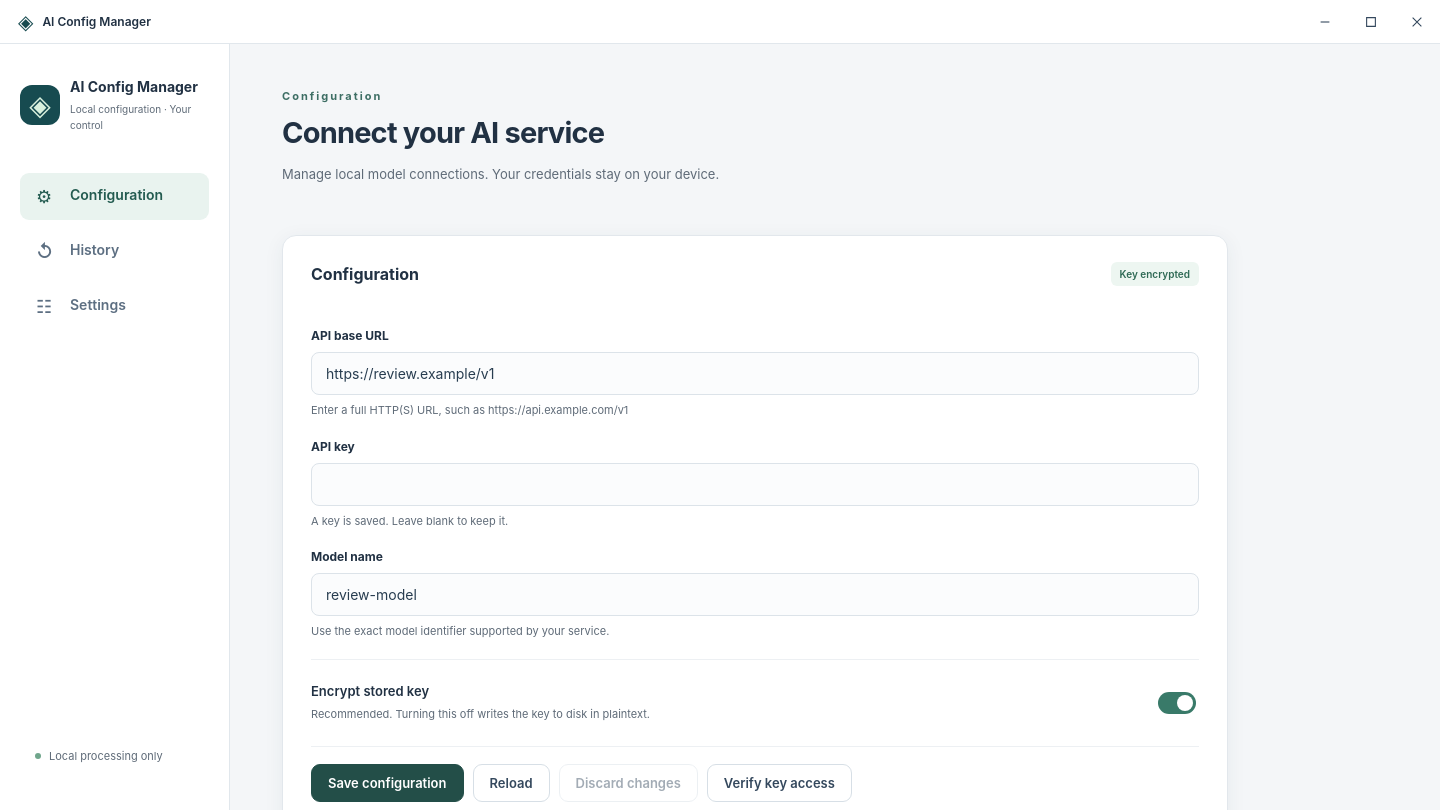
Settings page inventory › renders the English shell and settings copy from the saved language
Expected: the field showing "https://review.example/v1" is shown, [311,352,1199,395]
Click the button "☷ Settings". click: x=114, y=306
box: [20,283,209,330]
(page scrolled)
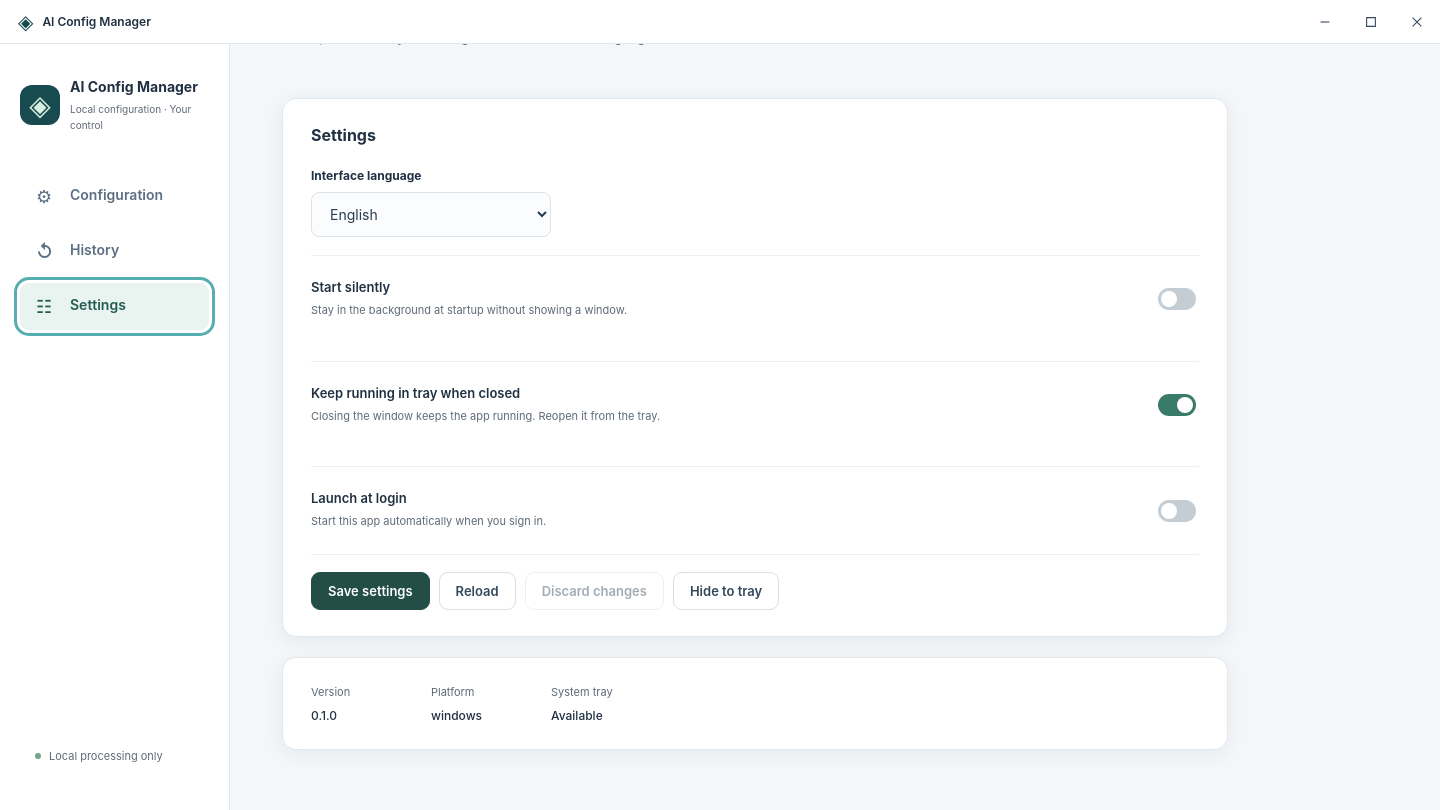
Expected: the dropdown labelled "Interface language" shows "English", [311,192,551,237]
Expected: the switch labelled "Start silently" is not checked, [1158,288,1196,310]
Expected: the switch labelled "Launch at login" is not checked, [1158,500,1196,522]
